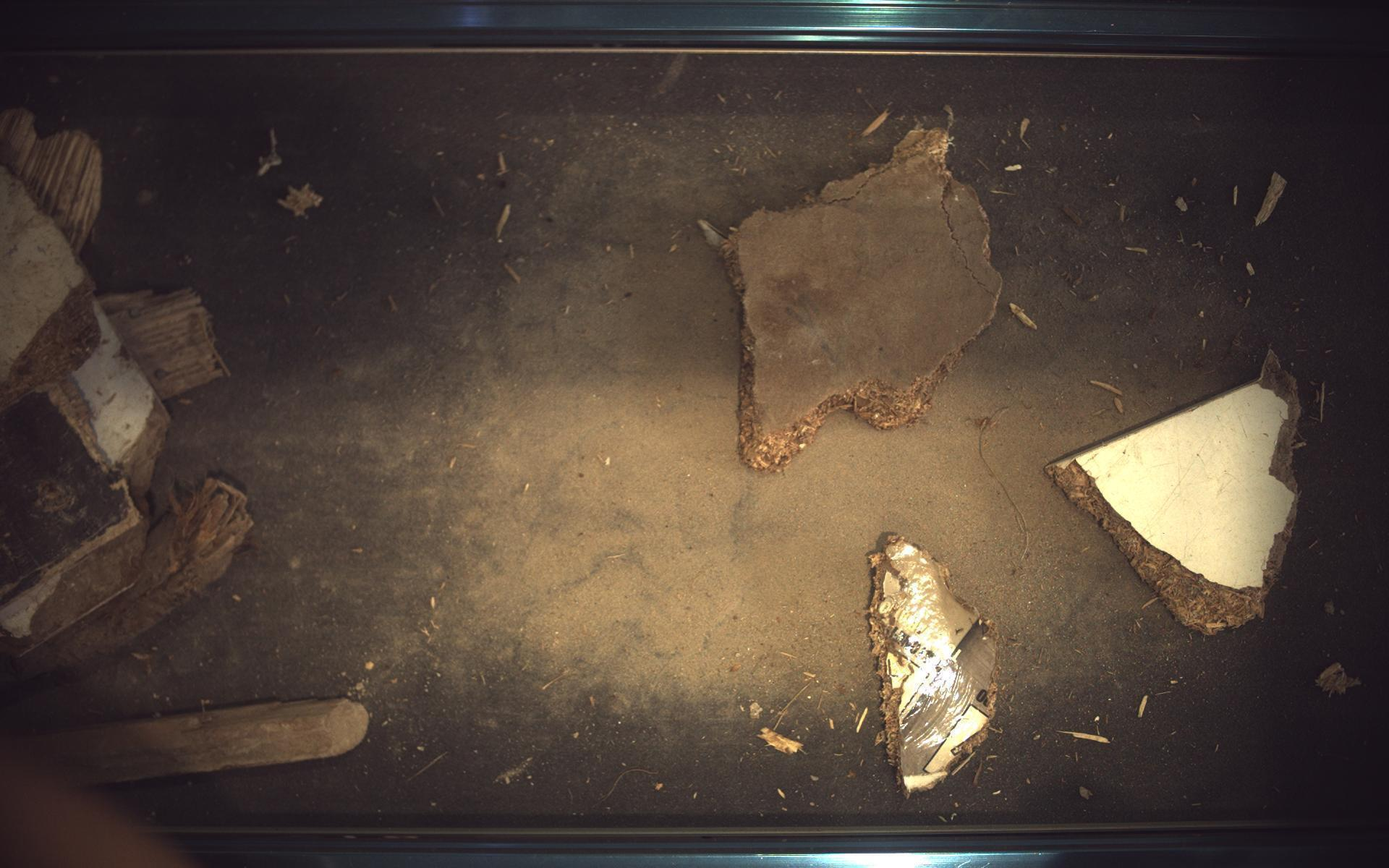wood: (700, 127, 1004, 472), (1048, 351, 1304, 635), (870, 535, 998, 796)
